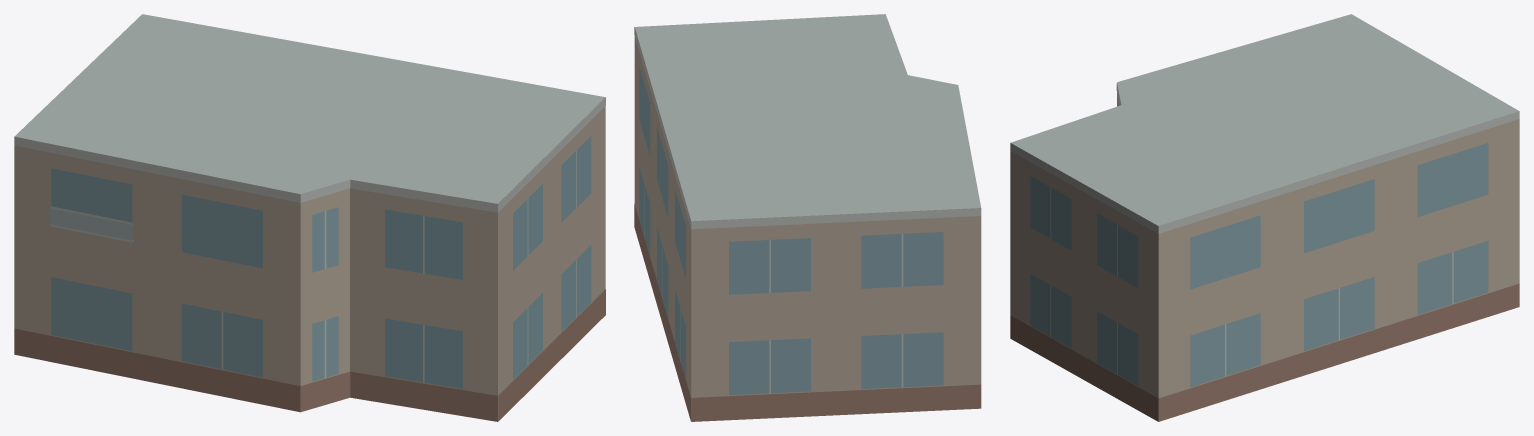
The model's file is survey-upis-32499616.glb.
3 renders of one model, left to right at view 1: azimuth 30°, elevation 25°; view 2: azimuth 150°, elevation 25°; view 3: azimuth 270°, elevation 25°, orthographic. The views are drawn at different scales.
Visible parts, largest first — view 1: survey-upis-32499616.tmp; view 2: survey-upis-32499616.tmp; view 3: survey-upis-32499616.tmp.
Part boxes in pixels (x1=…): survey-upis-32499616.tmp: x1=14, y1=14, x2=605, y2=421; survey-upis-32499616.tmp: x1=634, y1=14, x2=981, y2=421; survey-upis-32499616.tmp: x1=1010, y1=14, x2=1519, y2=421.
Size of the model in its own units: 14.18 by 6.1 by 14.39.
